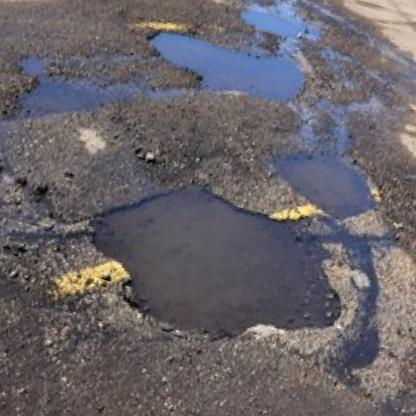pothole: (70, 158, 365, 374), (143, 19, 314, 112), (263, 137, 391, 227), (237, 0, 325, 48)
